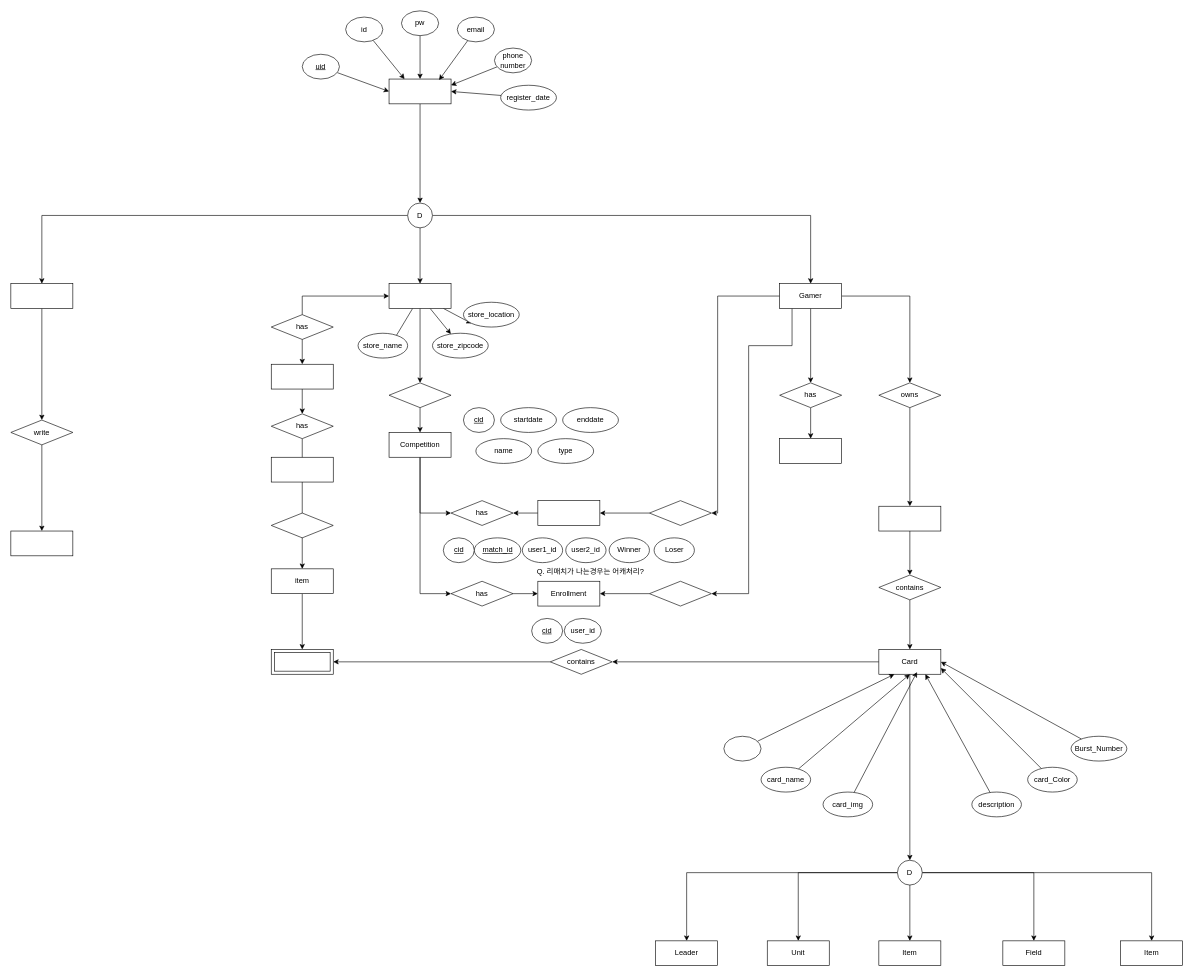
This 1194x977 diagram has some shape labels left out. The shapes that lost their labels are listed below. From the top down, each one's centre as x and y in pixels, then its label:
pixel 419 91: User
pixel 41 295: admin
pixel 419 295: StoreOwner
pixel 302 376: OrderList
pixel 419 395: creates
pixel 302 469: Order
pixel 810 450: MatchRecordList
pixel 302 525: Contain
pixel 568 512: Match
pixel 680 512: join
pixel 909 518: CardDeck
pixel 41 543: content
pixel 680 593: enroll
pixel 302 661: cardpack
pixel 742 748: card_id
